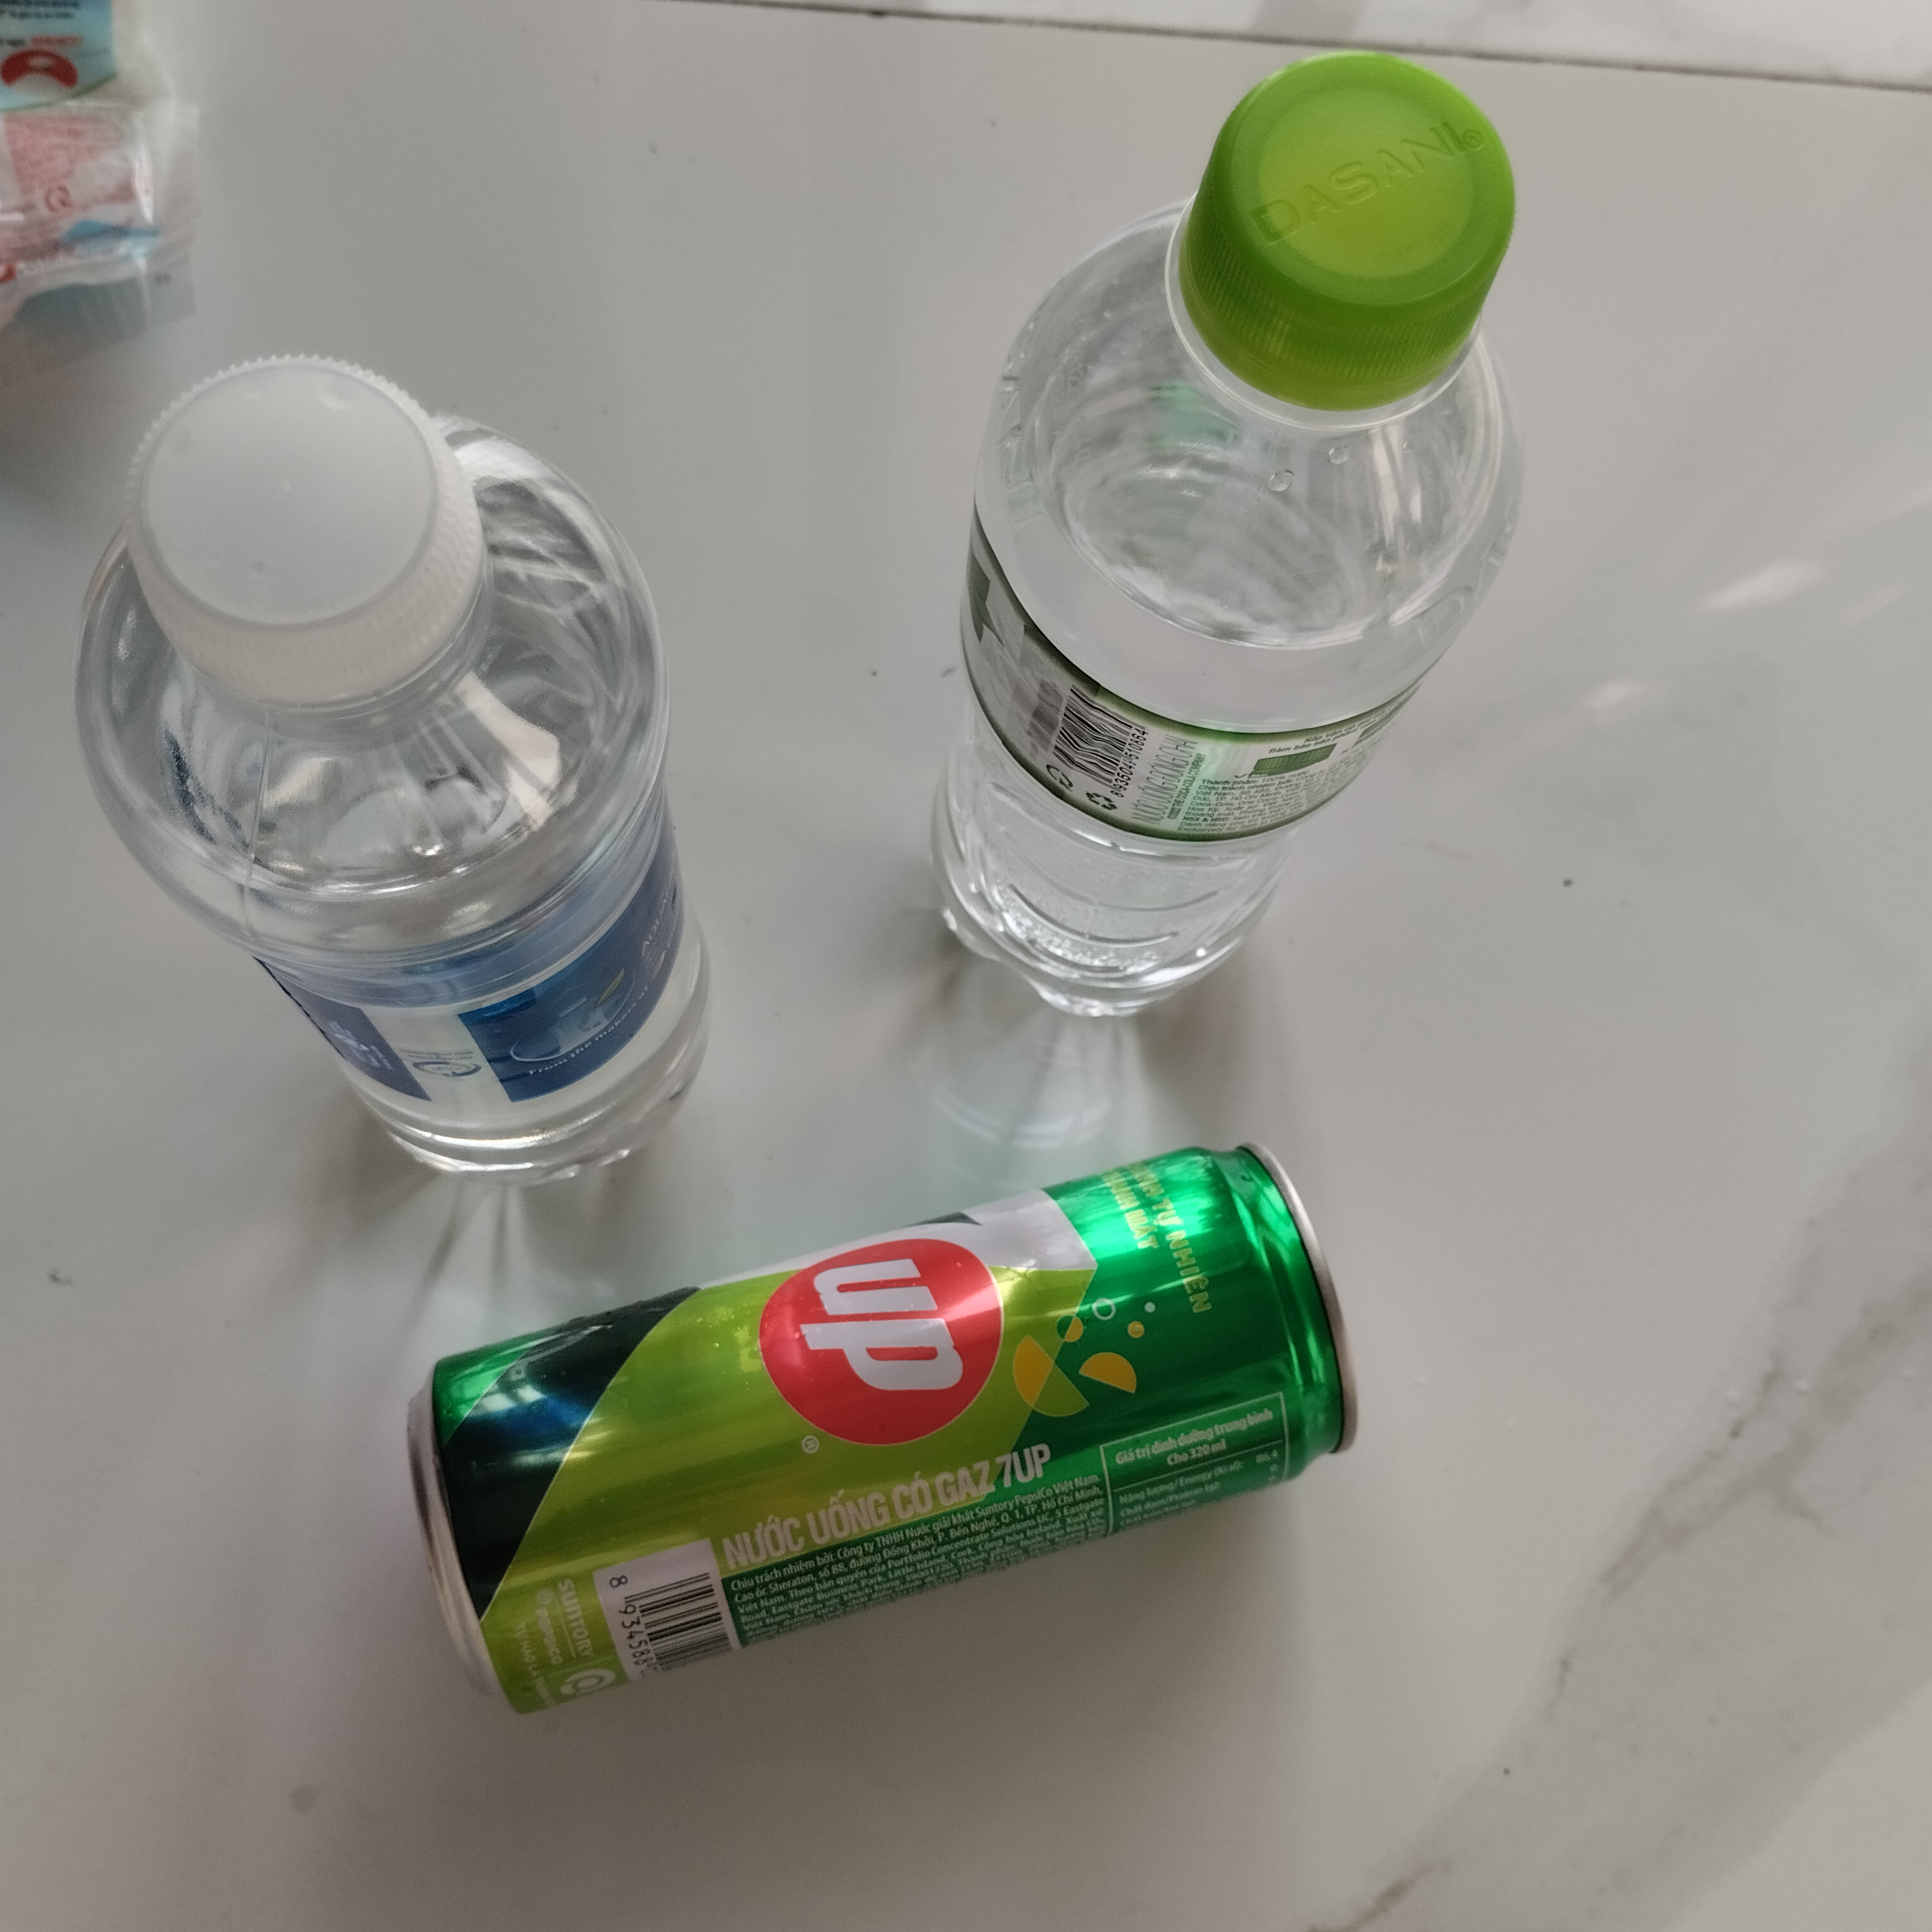7up: (400, 1143, 1361, 1766)
Aquafina: (67, 357, 727, 1184)
Dasani: (936, 58, 1514, 1040)
